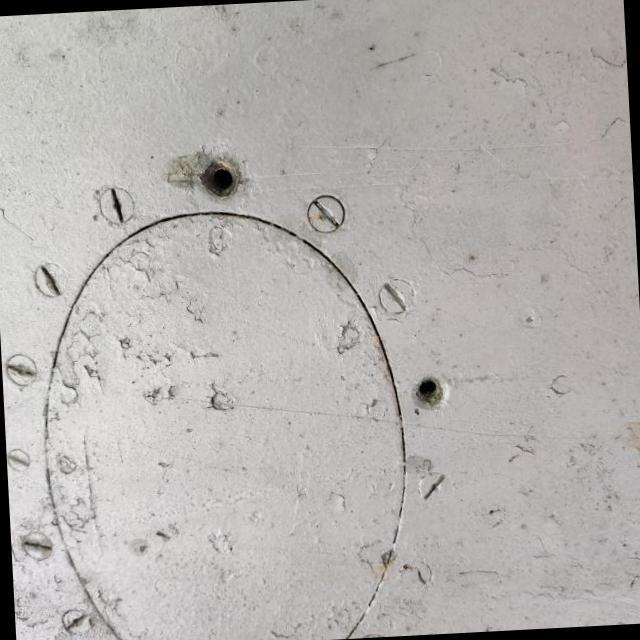Fastener Damage: (170, 139, 264, 227), (384, 355, 471, 436)
